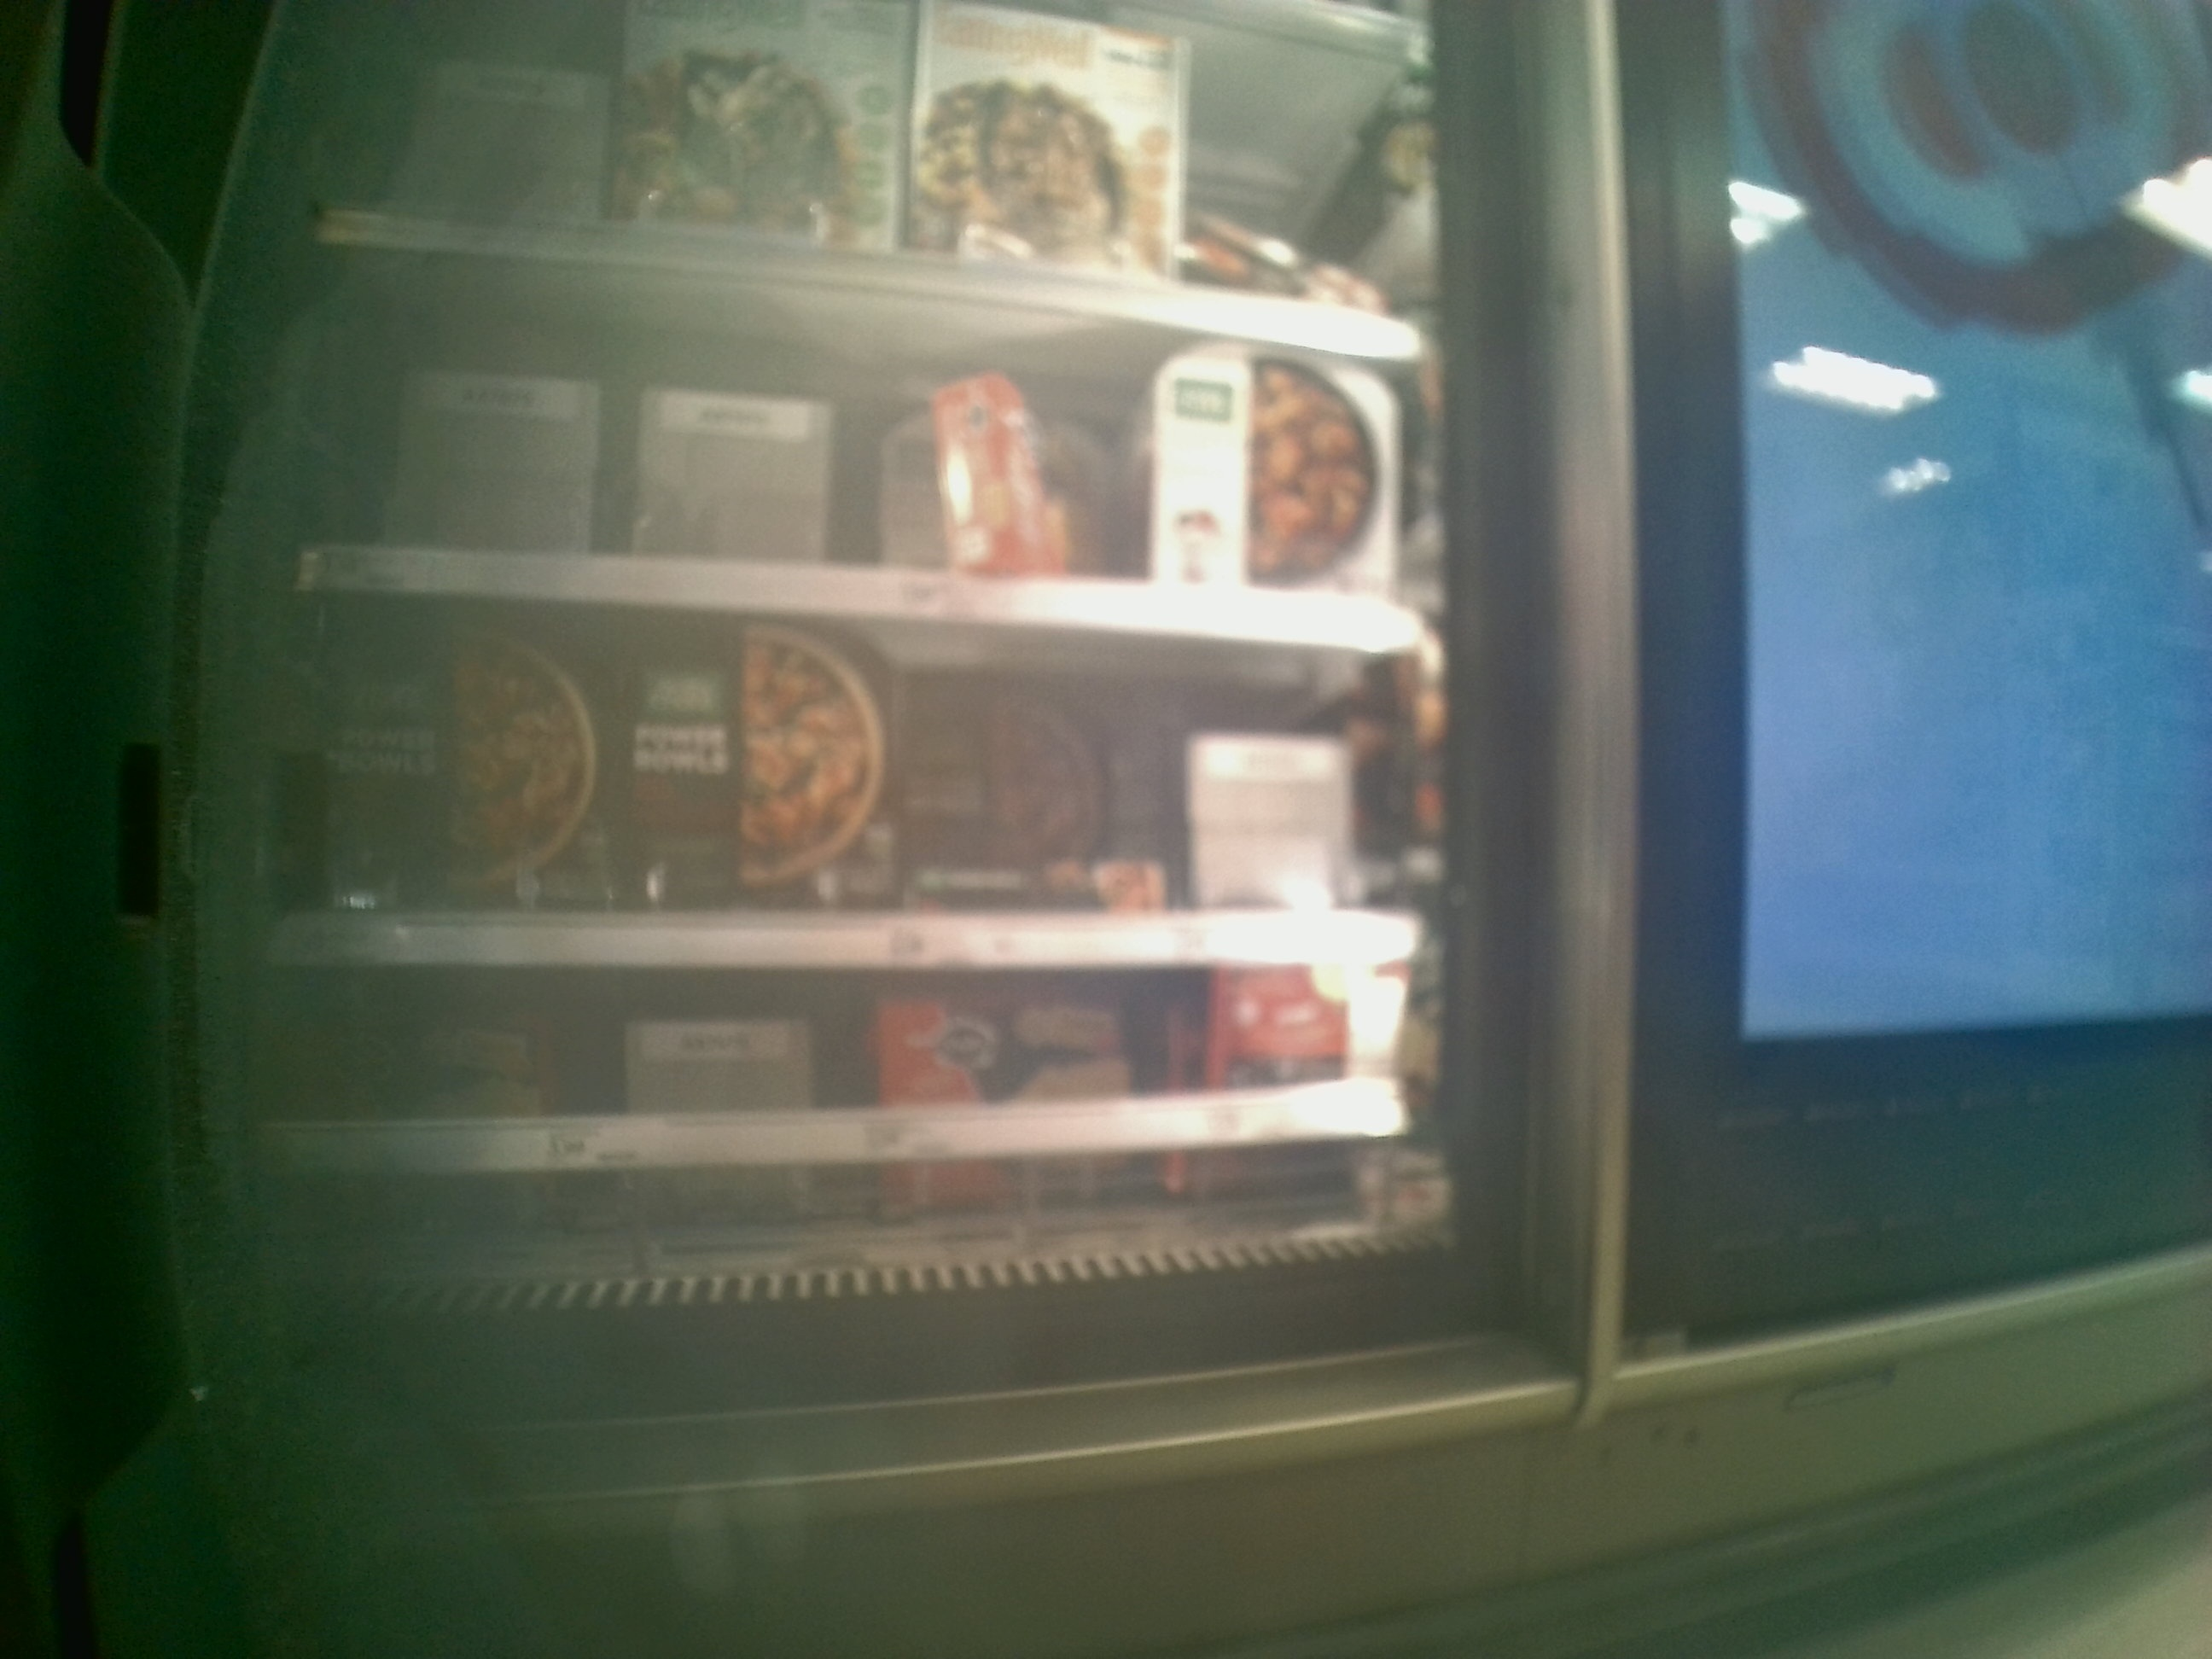shelf: (298, 242, 1430, 652), (284, 592, 1416, 964), (254, 962, 1447, 1276)
